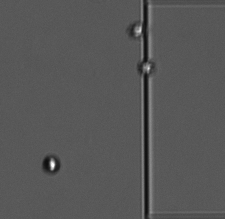Living Cell: (41, 153, 61, 174), (128, 20, 146, 38), (137, 59, 155, 75)
